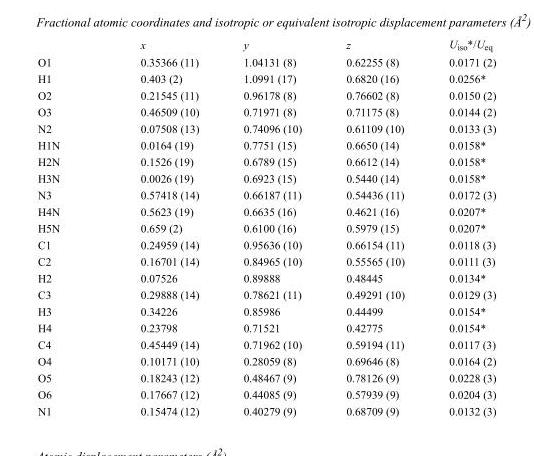table: (37, 37, 495, 416)
table column: (99, 37, 220, 416), (220, 37, 323, 416), (323, 37, 426, 416), (426, 37, 495, 416), (37, 37, 99, 416)
table column header: (37, 37, 495, 53)
table row: (37, 69, 495, 86), (37, 86, 495, 103), (37, 119, 495, 136), (37, 152, 495, 169), (37, 169, 495, 186), (37, 202, 495, 219), (37, 219, 495, 236), (37, 252, 495, 269), (37, 285, 495, 302), (37, 302, 495, 319), (37, 335, 495, 352), (37, 352, 495, 369), (37, 385, 495, 402), (37, 37, 495, 53), (37, 53, 495, 69), (37, 103, 495, 119), (37, 136, 495, 152), (37, 186, 495, 202), (37, 236, 495, 252), (37, 269, 495, 285), (37, 319, 495, 335), (37, 369, 495, 385), (37, 402, 495, 416)
